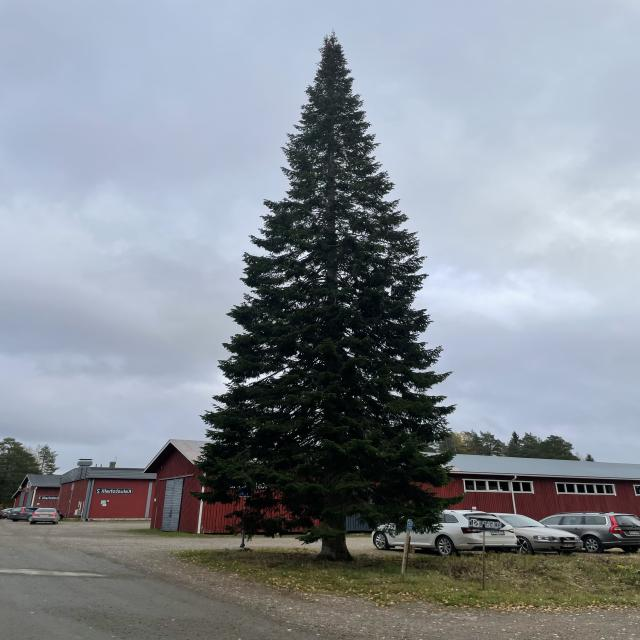spruce: (172, 11, 486, 568)
